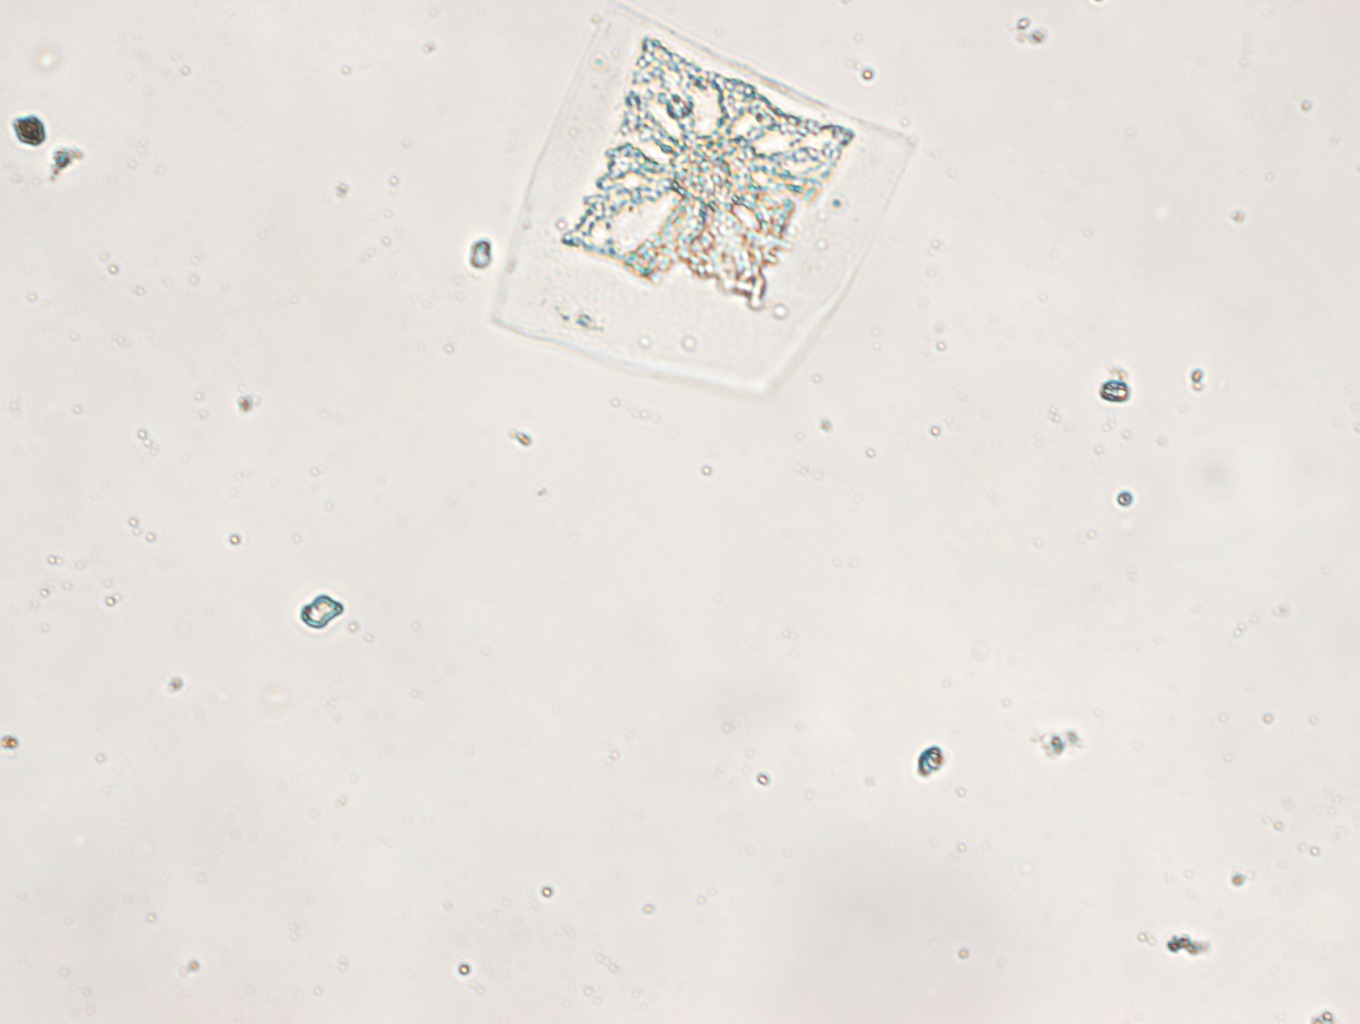helicotheca: (486, 1, 918, 399)
